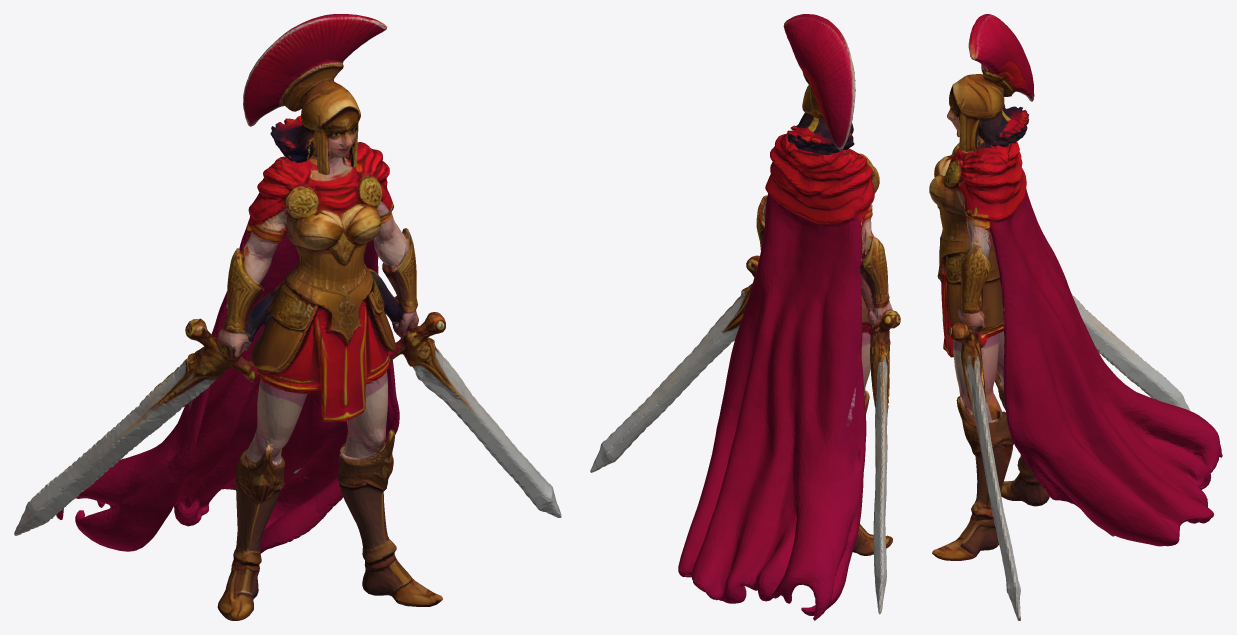
The picture shows the model from 3 angles, left to right: view 1: azimuth 30°, elevation 25°; view 2: azimuth 150°, elevation 25°; view 3: azimuth 270°, elevation 25°; orthographic projection. The views are drawn at different scales.
Parts seen in each view (by area): view 1: textured_mesh.obj; view 2: textured_mesh.obj; view 3: textured_mesh.obj.
Boxes of the visible parts, x1,y1,x2,y2 form: textured_mesh.obj: (14,14,561,620); textured_mesh.obj: (590,14,900,620); textured_mesh.obj: (929,14,1222,620).
Size of the model in its own units: 1.49 by 1.95 by 0.9965.
1 material, 1 textured.
